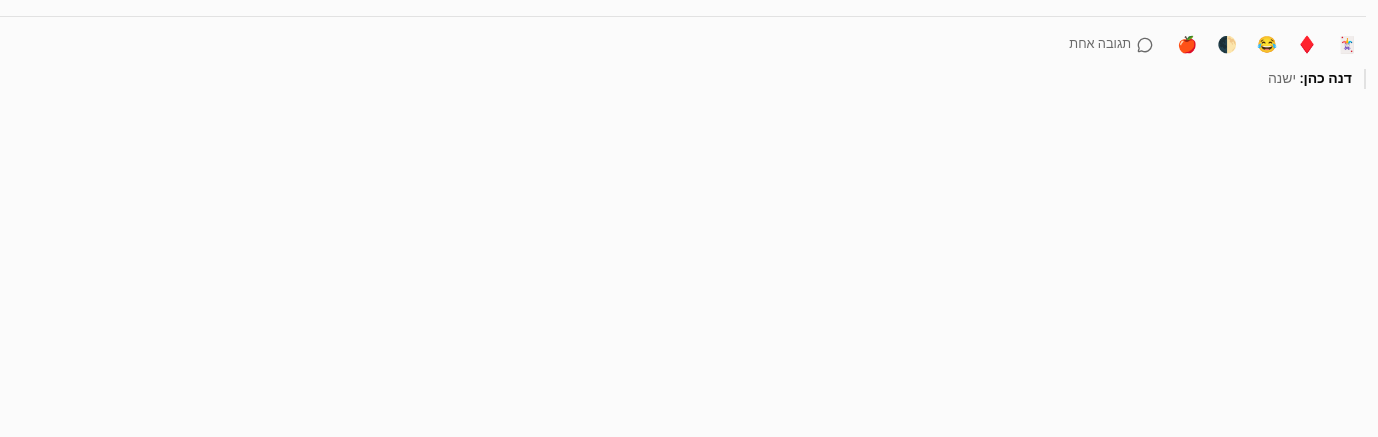
Scenario: QuoteEngagement › loads the full conversation and adds a comment inline
The width and height of the screenshot is (1378, 437).
Click the button "תגובה אחת". click: [1111, 45]
box: [1058,31,1164,59]
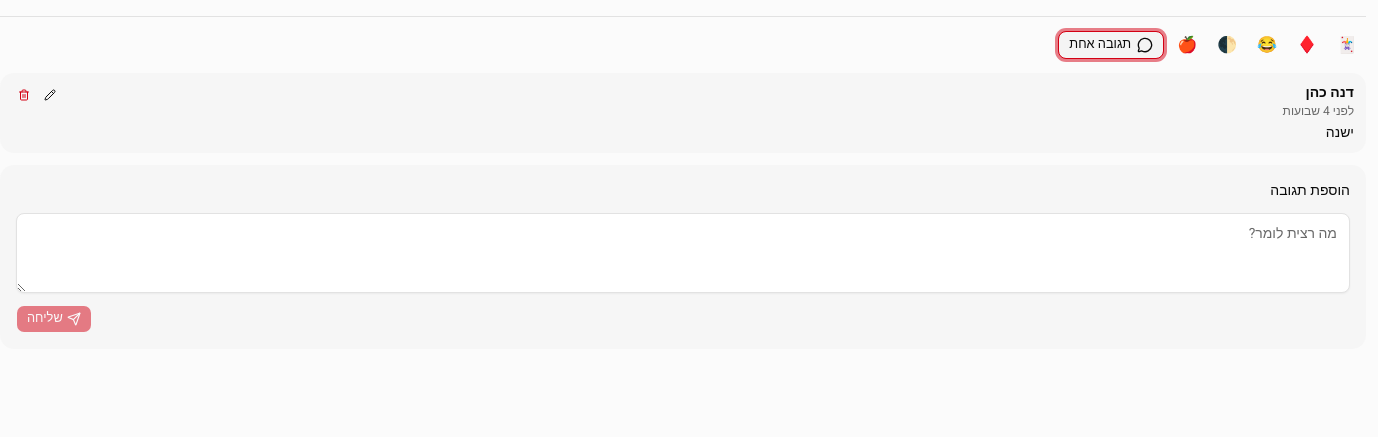
Check: the text "ישנה" is shown, box [1326,122,1354,143]
Type "תגובה חדשה" into the text box labelled "הוספת תגובה". click: [683, 253]
box: [16,213,1350,293]
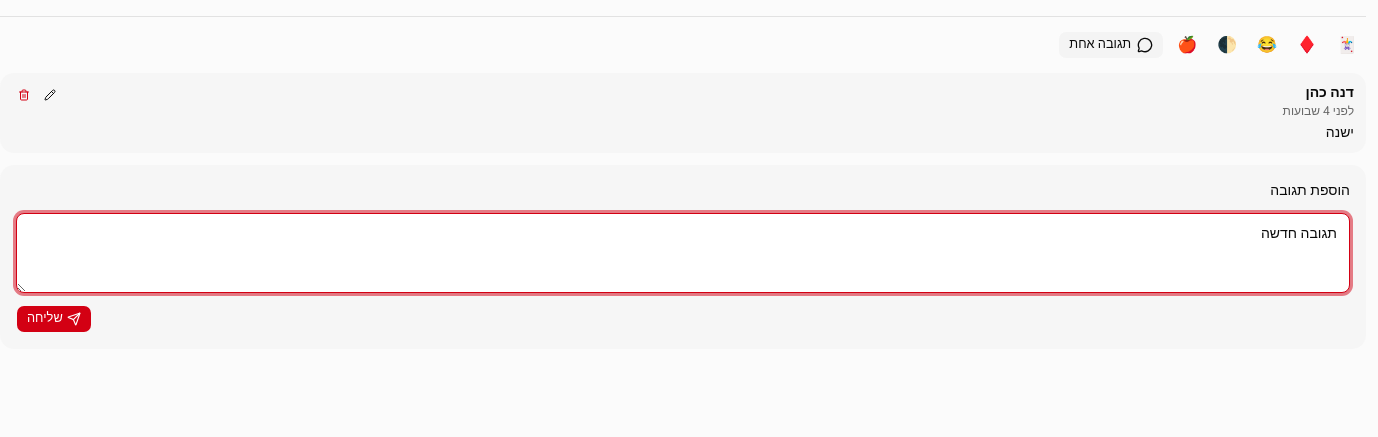
Click the button "שליחה". click: [54, 319]
box: [16,305,92,333]
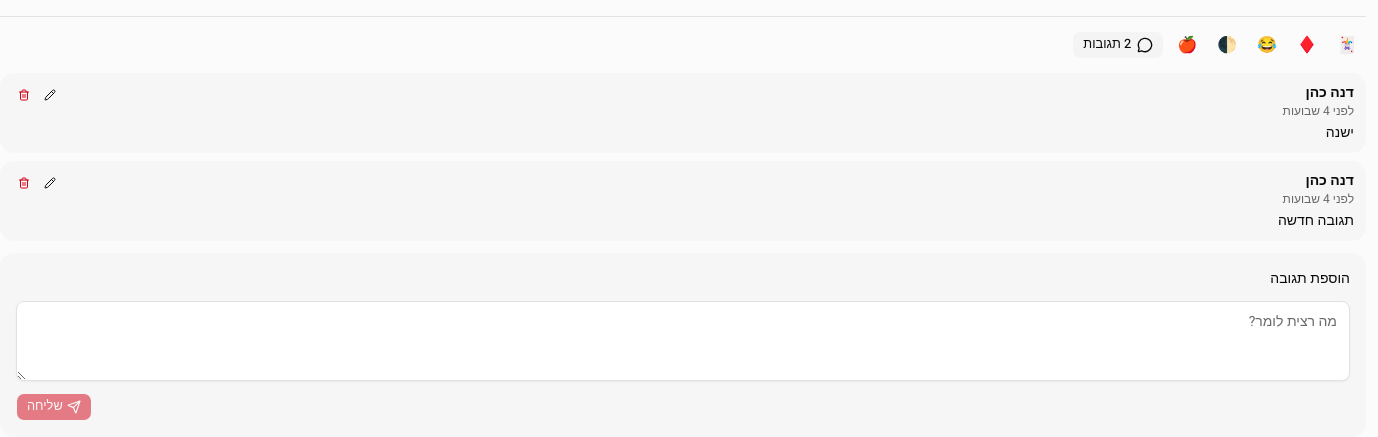
Check: the text "תגובה חדשה" is shown, box [1278,210,1354,231]
Check: the button "2 תגובות" is shown, box [1072,31,1164,59]
Check: the text box labelled "הוספת תגובה" is empty, box [16,301,1350,381]
